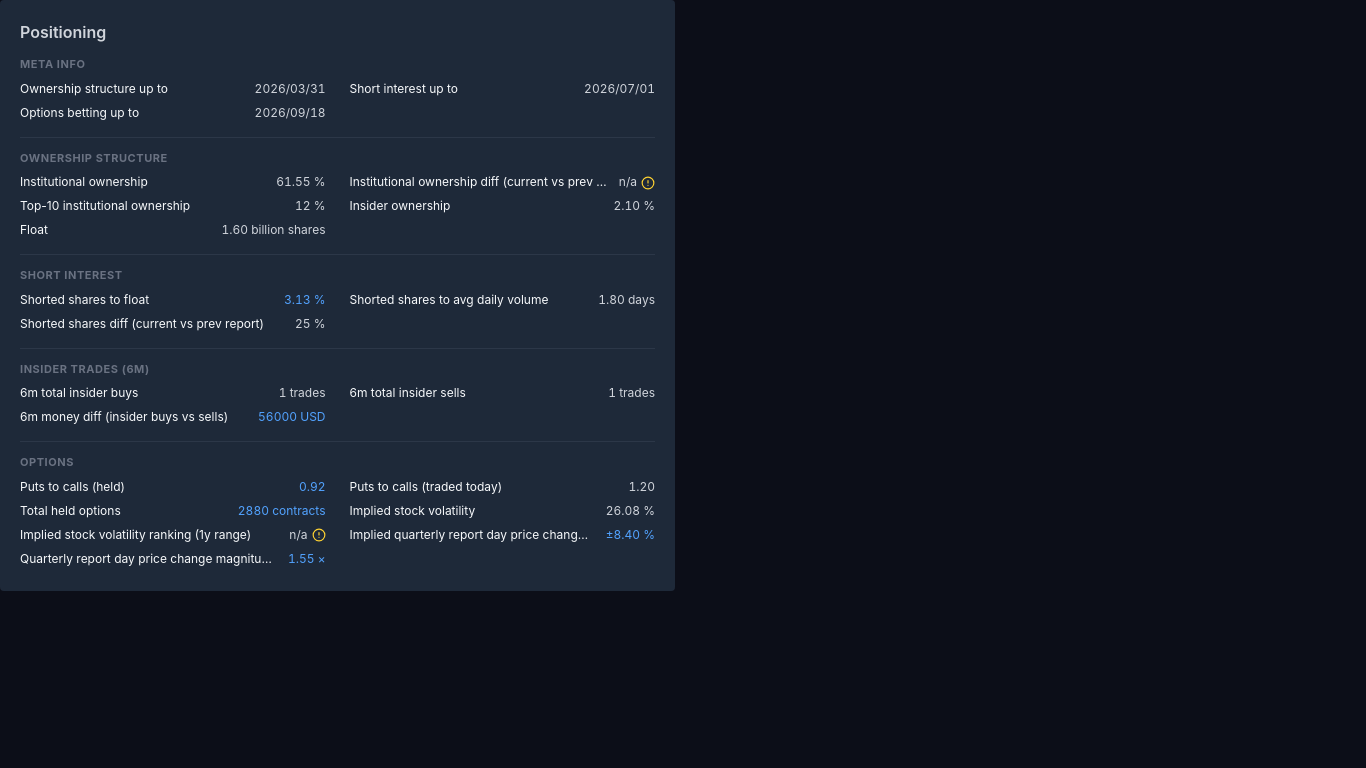
Test: AltDimensions — positioning v2 › appends units, renders the report-day move as a ± magnitude
The image size is (1366, 768).
expect the text "1.80 days" is shown: met, box [598,292,655,308]
expect the text "61.55 %" is shown: met, box [276,174,326,190]
Click the button with test id "alt-metric-formula-report_move_ratio_implied_4q".
click(307, 558)  # box [288,550,326,566]
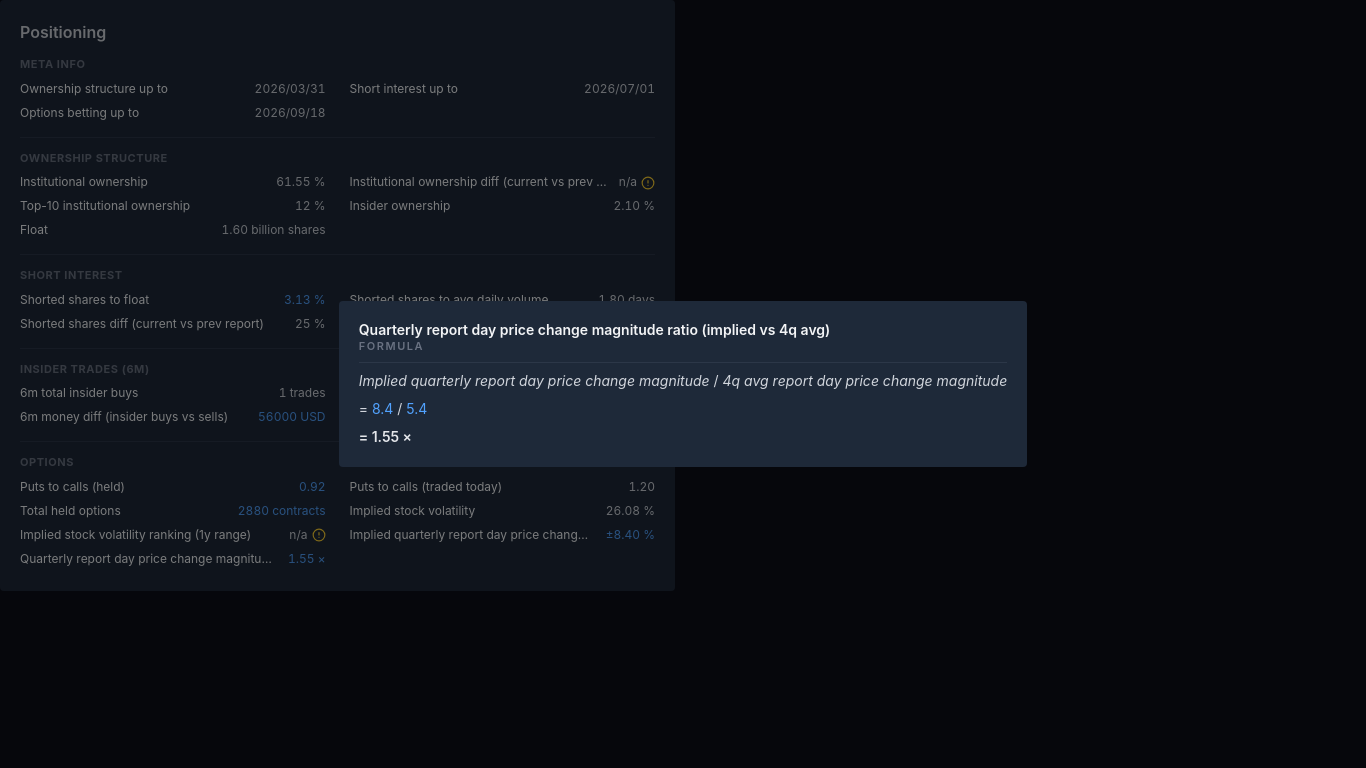
expect the text "4q avg report day price change magnitude" is shown: met, box [722,372,1007,389]
